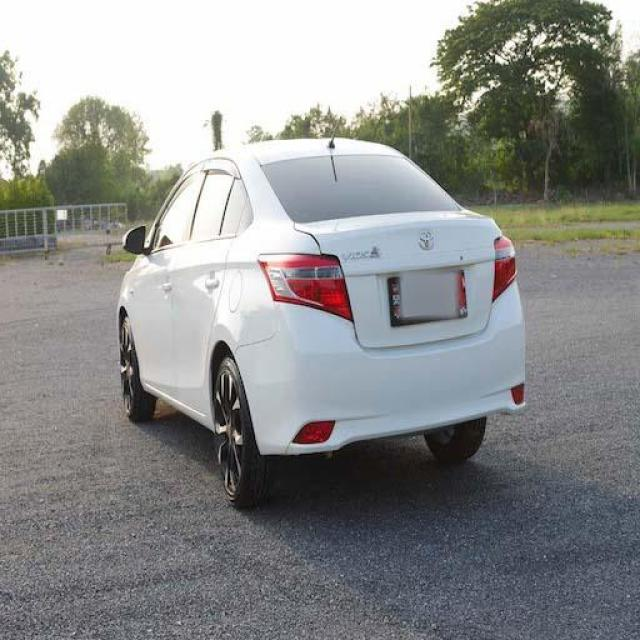back_bumper: (235, 277, 526, 454)
back_glass: (261, 155, 464, 223)
back_left_door: (173, 158, 247, 414)
back_left_light: (257, 253, 355, 324)
back_right_light: (494, 234, 519, 301)
front_left_door: (146, 160, 206, 398)
left_mirror: (122, 224, 153, 255)
tailgate: (294, 211, 503, 350)
wheel: (213, 358, 274, 506), (119, 315, 157, 421), (423, 416, 486, 462)
